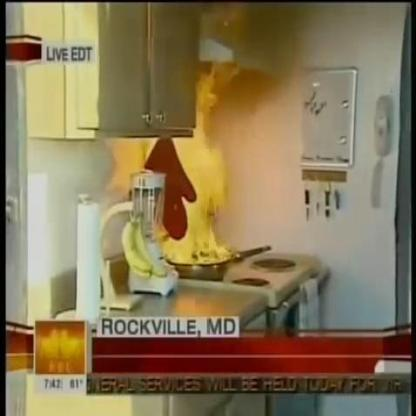fire: (158, 103, 231, 271)
